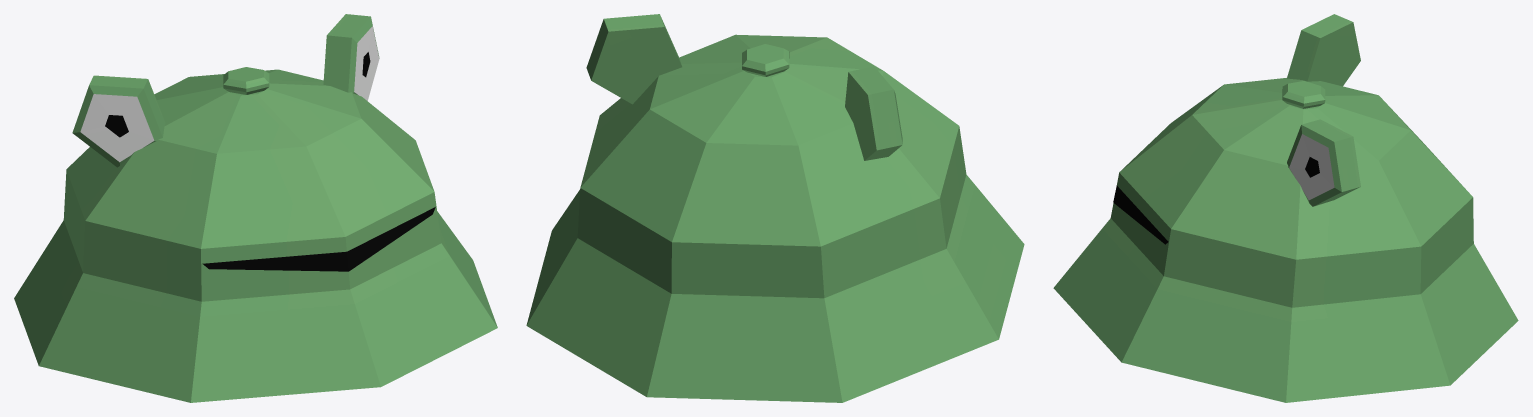
Rendered from frog_hat.glb.
3 views of the same model, side by side, from view 1: azimuth 30°, elevation 25°; view 2: azimuth 150°, elevation 25°; view 3: azimuth 270°, elevation 25° (orthographic). The views are drawn at different scales.
Visible parts, largest first — view 1: FrogHat_Cylinder; view 2: FrogHat_Cylinder; view 3: FrogHat_Cylinder.
Part boxes in pixels (x1,y1,x2,y2): FrogHat_Cylinder: (14, 14, 497, 402); FrogHat_Cylinder: (526, 14, 1024, 402); FrogHat_Cylinder: (1053, 14, 1518, 402).
Size of the model in its own units: 0.7809 by 0.4492 by 0.7786.
1 material, 1 textured.
